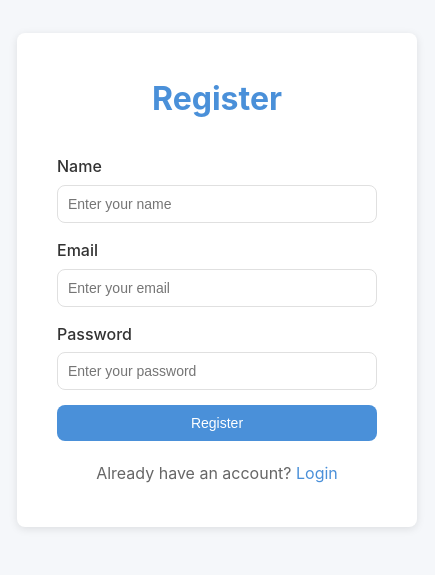
Register › should show error when password is too short
This screenshot has width=435, height=575.
In the field labelled "Name": x=217, y=204 x1=57 y1=185 x2=377 y2=223, type "Test User"
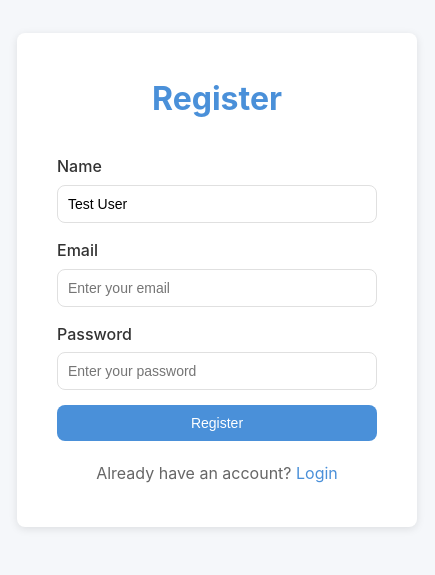
In the field labelled "Email": x=217, y=288 x1=57 y1=269 x2=377 y2=307, type "test@example.com"
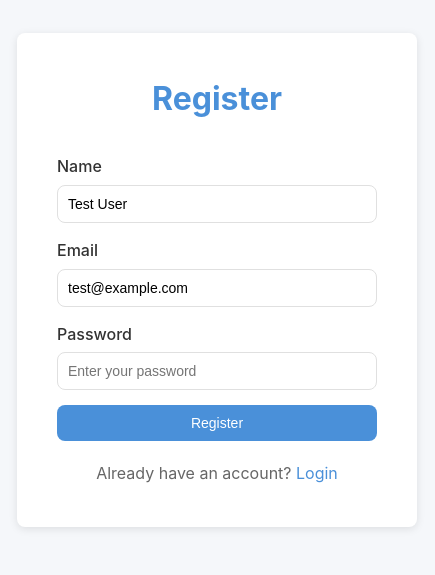
In the password field labelled "Password": x=217, y=371 x1=57 y1=352 x2=377 y2=390, type "12345"
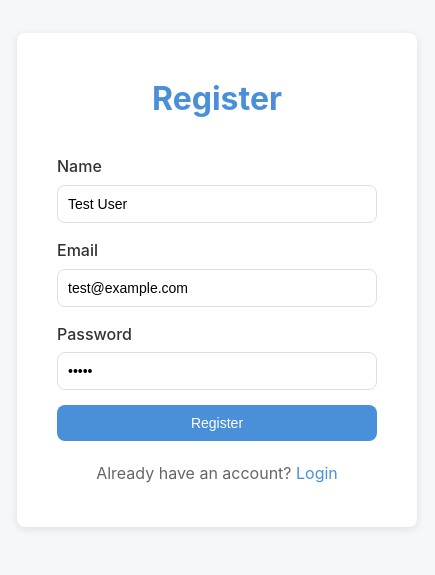
Click the button "Register": x=217, y=423 x1=57 y1=405 x2=377 y2=441
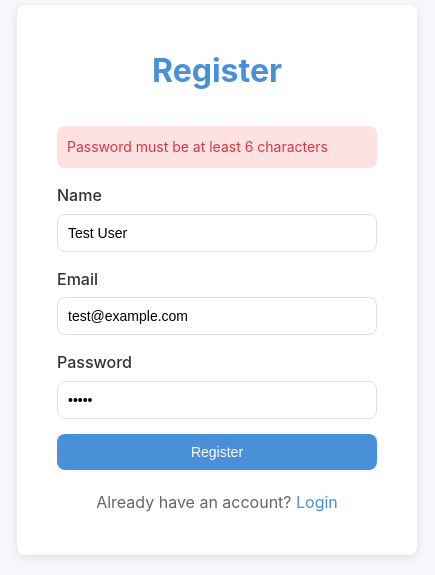
Result: the text "Password must be at least 6 characters" is shown at x1=57 y1=126 x2=377 y2=168
